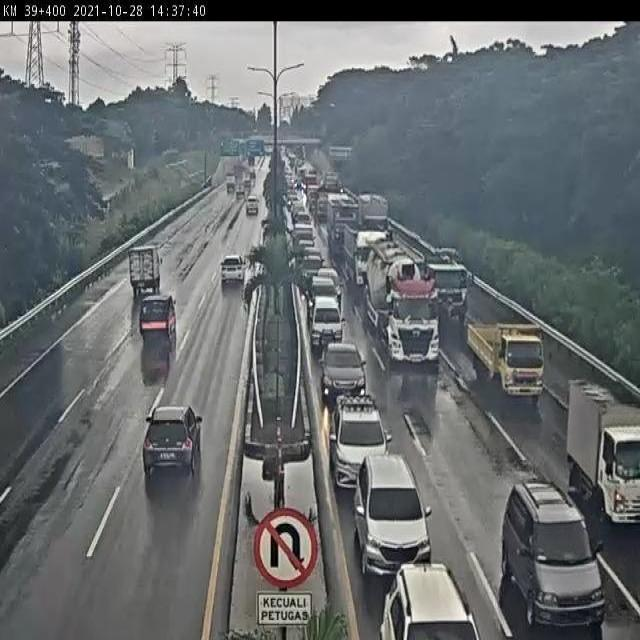Car: (501, 480, 606, 630), (351, 454, 433, 580), (377, 560, 480, 640), (330, 395, 394, 493), (142, 403, 203, 475), (318, 340, 368, 404), (219, 256, 246, 285)
Truck: (360, 238, 442, 369), (566, 385, 638, 529), (465, 318, 547, 407), (421, 244, 474, 325), (345, 222, 389, 290), (128, 245, 161, 299), (325, 192, 356, 247), (359, 193, 389, 233)
Van: (310, 294, 345, 352)
